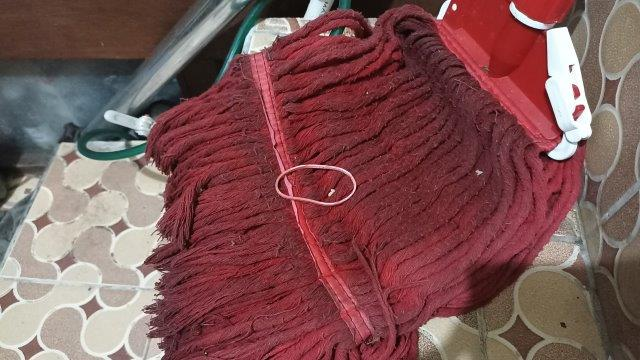karet: (275, 164, 357, 206)
